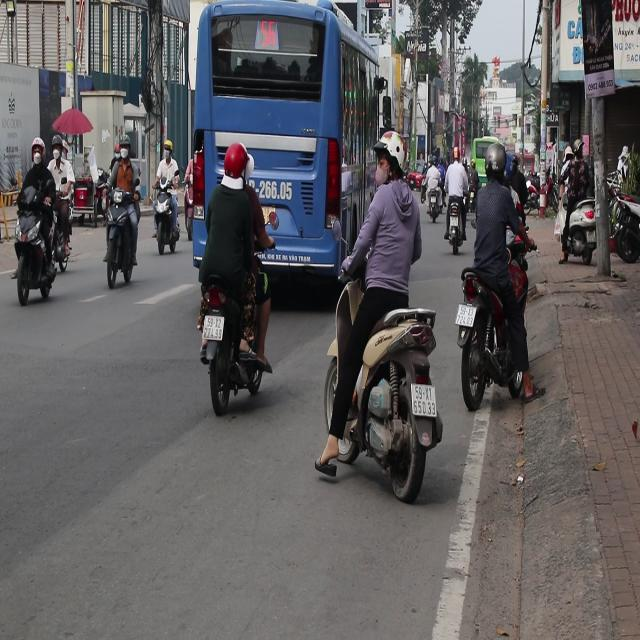bus: (194, 17, 380, 264), (467, 130, 494, 168)
motorbike: (326, 286, 436, 494), (459, 262, 550, 418), (185, 268, 287, 404), (9, 190, 58, 314), (102, 182, 142, 286), (40, 188, 82, 276), (152, 187, 182, 255), (448, 215, 468, 264), (430, 192, 440, 224)
